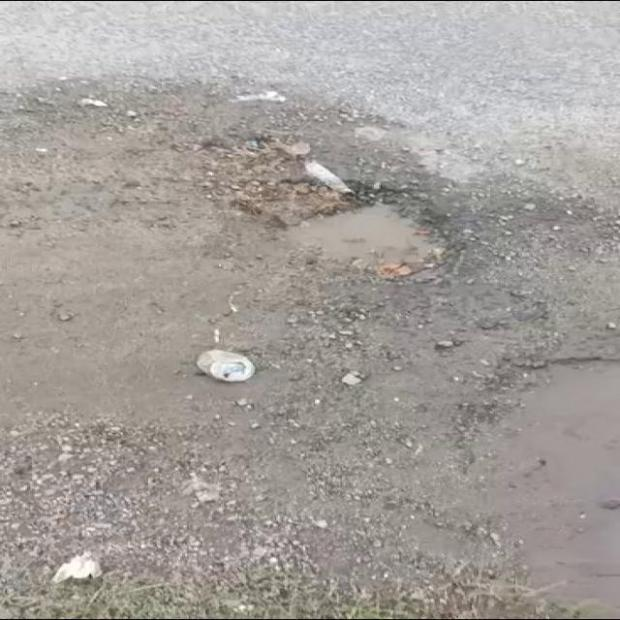lubang: (468, 332, 619, 537), (233, 158, 458, 278), (200, 138, 309, 184)
